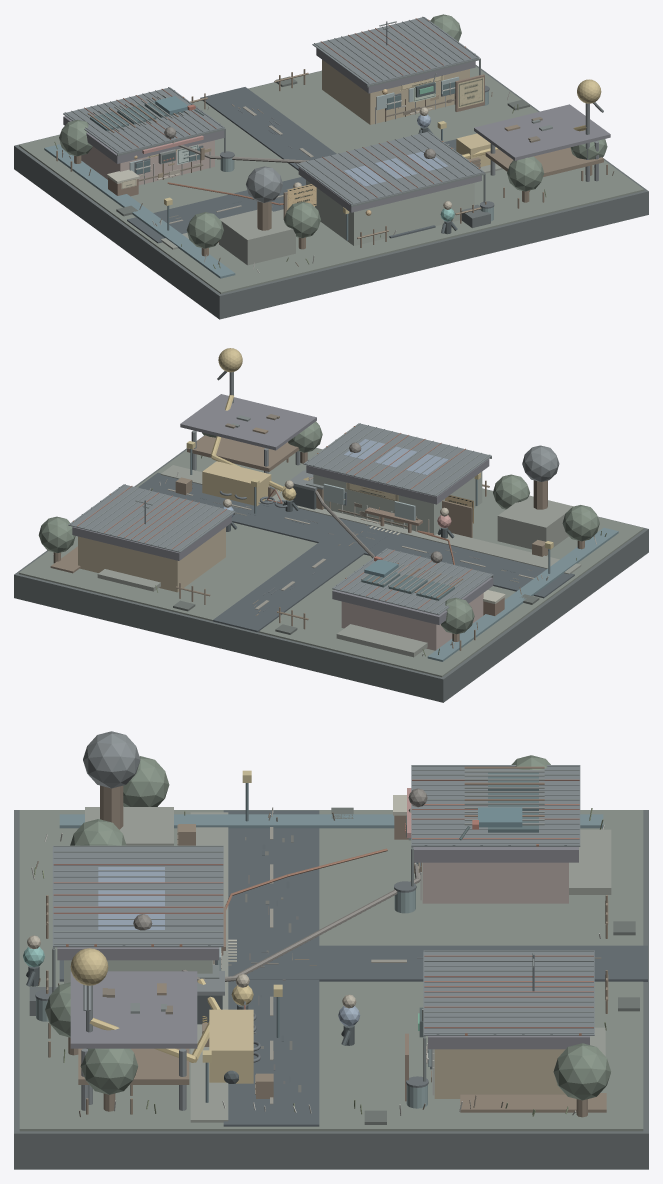
The model's file is yudae_e_shuttle_direct_detailed.glb.
3 renders of one model, top to bottom at view 1: azimuth 30°, elevation 25°; view 2: azimuth 150°, elevation 25°; view 3: azimuth 270°, elevation 25°, orthographic. The views are drawn at different scales.
Parts seen in each view (by area): view 1: world; view 2: world; view 3: world.
Boxes of the visible parts, x1,y1,x2,y2 form: world: [14, 14, 648, 319]; world: [14, 348, 648, 702]; world: [14, 731, 648, 1169].
Size of the model in its own units: 3.45 by 0.96 by 2.86.
9 materials, 9 textured.
